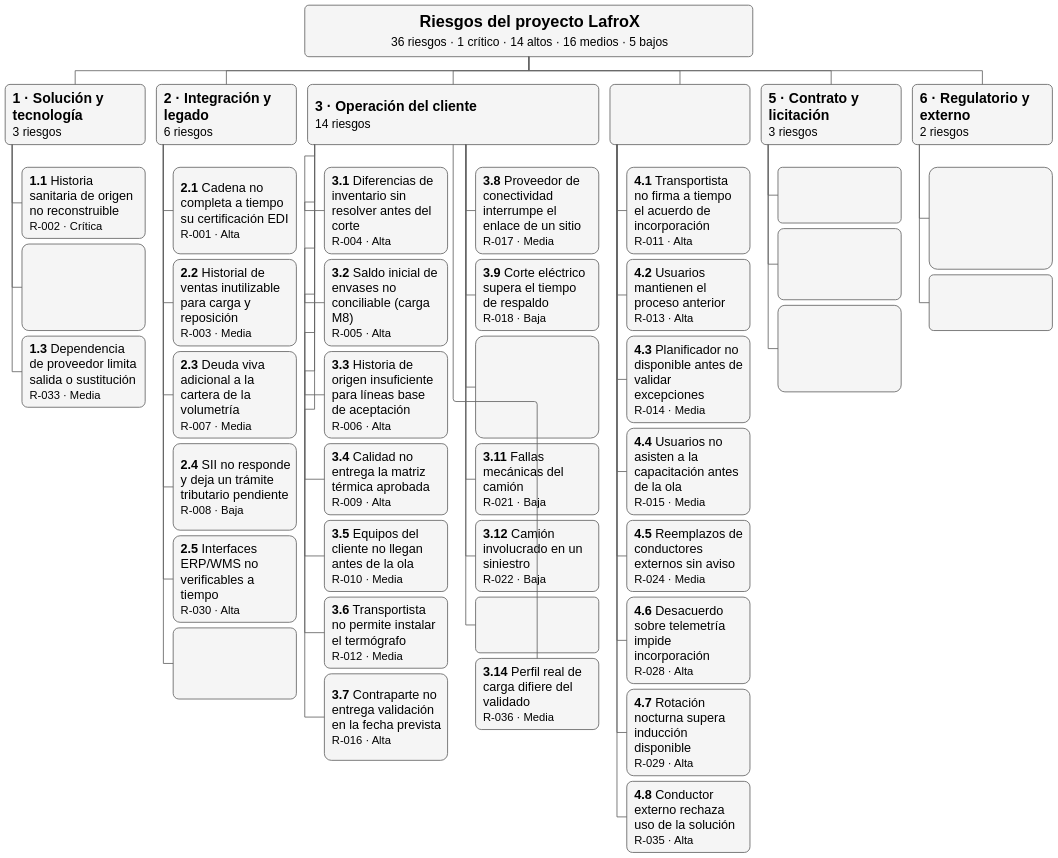
This 1058x858 diagram has some shape labels left out. The box of each missing label's shape, as (x1, y1, x2, y2) in pixels:
1.2 Cambio de soporte exige adecuación extraordinaria R-032 · Alta: (21, 243, 145, 331)
2.6 ERP indisponible impide nueva guía válida R-034 · Media: (173, 627, 297, 699)
3.10 Cliente no autoriza intervención urgente en congelamiento R-020 · Media: (475, 336, 599, 438)
3.13 Asalto a camión R-023 · Baja: (475, 597, 599, 653)
4 · Personas y adopción 8 riesgos: (609, 84, 750, 145)
5.1 Solicitudes que amplían el alcance R-025 · Media: (777, 167, 901, 223)
5.2 Disputa en la liquidación del tramo variable R-027 · Media: (777, 228, 901, 300)
5.3 Peak y congelamiento impiden cierre de fase R-031 · Alta: (777, 305, 901, 392)
6.1 Falta aprobación del cliente para datos en regiones de nube R-019 · Media: (929, 167, 1053, 270)
6.2 Cambios normativos R-026 · Media: (929, 274, 1053, 331)
